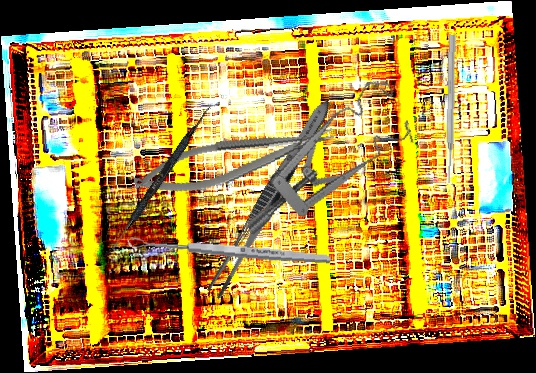Dressing Forceps: (203, 94, 337, 303)
Needle Holder: (129, 118, 340, 203)
Pusher: (444, 34, 457, 184)
Spatula Surgical: (104, 102, 212, 262)
Speculum: (217, 73, 427, 237)
Surgical Spoon: (126, 235, 333, 266)
